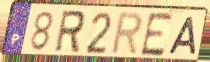2: (85, 11, 114, 55)
8: (28, 11, 55, 53)
A: (166, 16, 197, 57)
E: (139, 11, 175, 58)
R: (108, 12, 144, 57), (52, 9, 87, 55)
